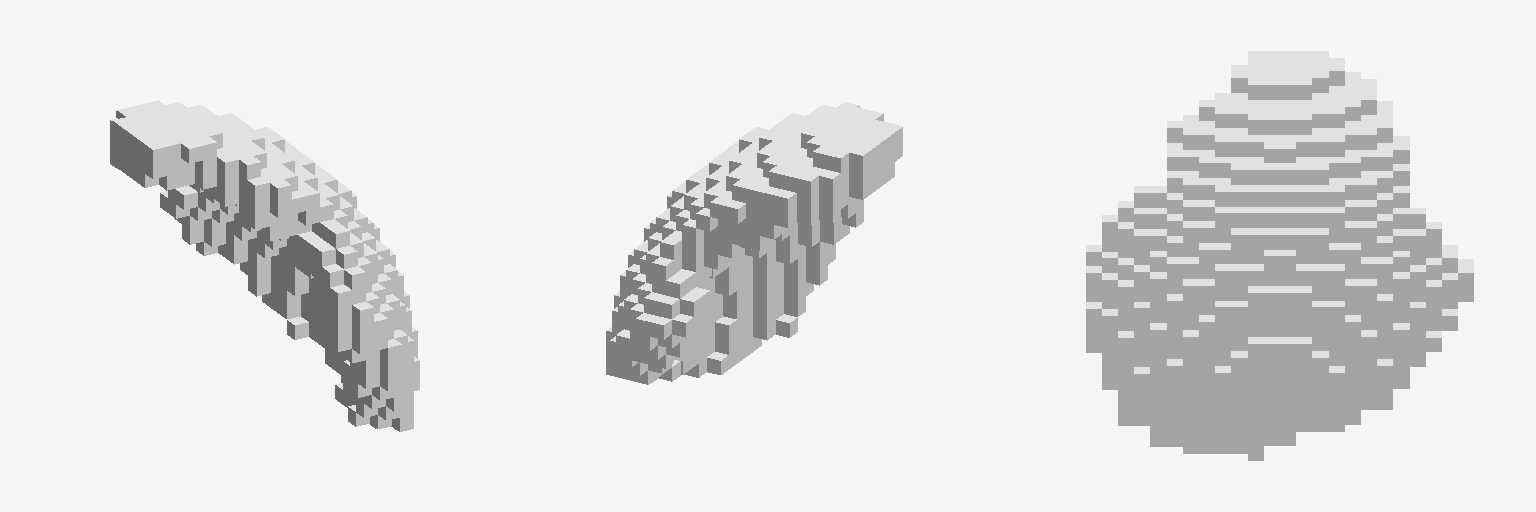
The model's file is BombDefaultShards-0.obj.
3 renders of one model, left to right at view 1: azimuth 30°, elevation 25°; view 2: azimuth 150°, elevation 25°; view 3: azimuth 270°, elevation 25°, orthographic.
Parts seen in each view (by area): view 1: object 1; view 2: object 1; view 3: object 1.
Part boxes in pixels (x1,y1,x2,y2): object 1: (110,100,419,431); object 1: (606,102,902,384); object 1: (1086,51,1473,460).
Bounding box in the file's own units: 1.7 × 2 × 2.4.